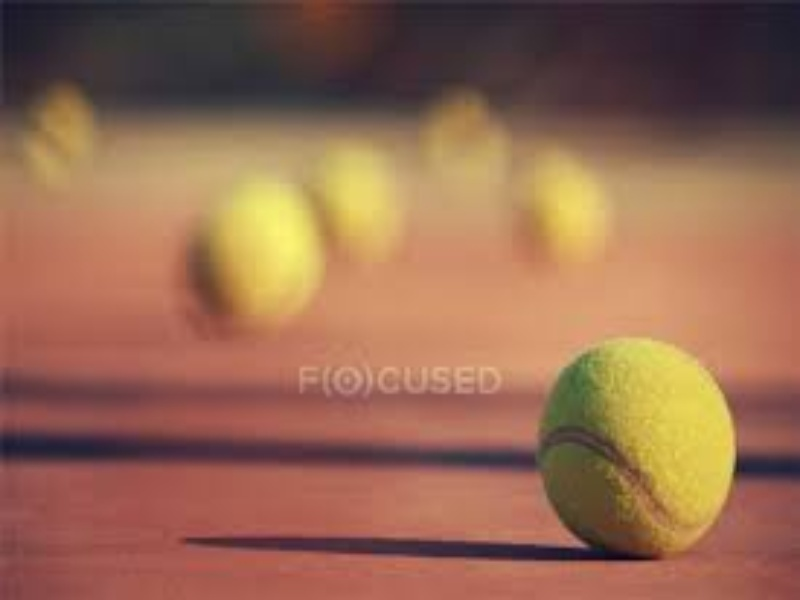tennis ball: (539, 329, 757, 575), (177, 174, 332, 330)
